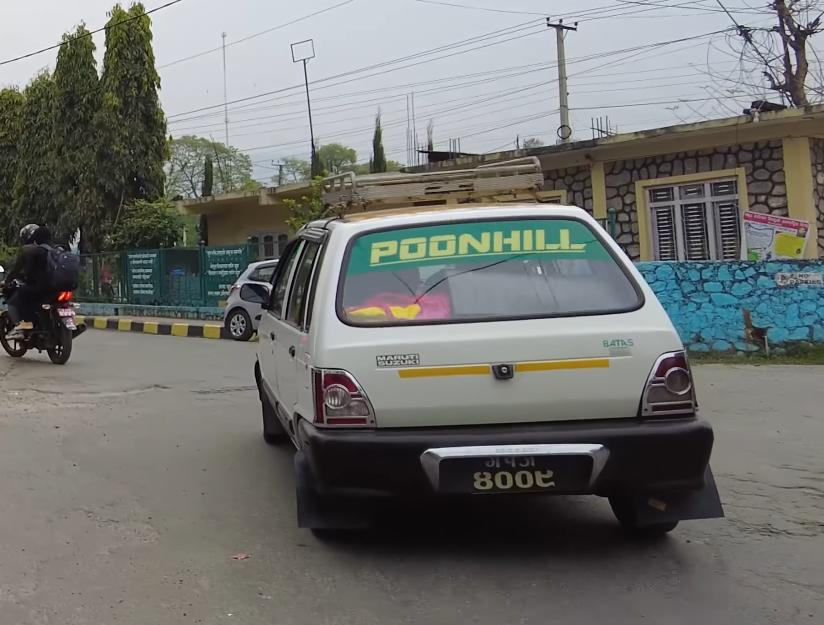bike: (0, 261, 93, 370)
taxi: (245, 193, 725, 553)
